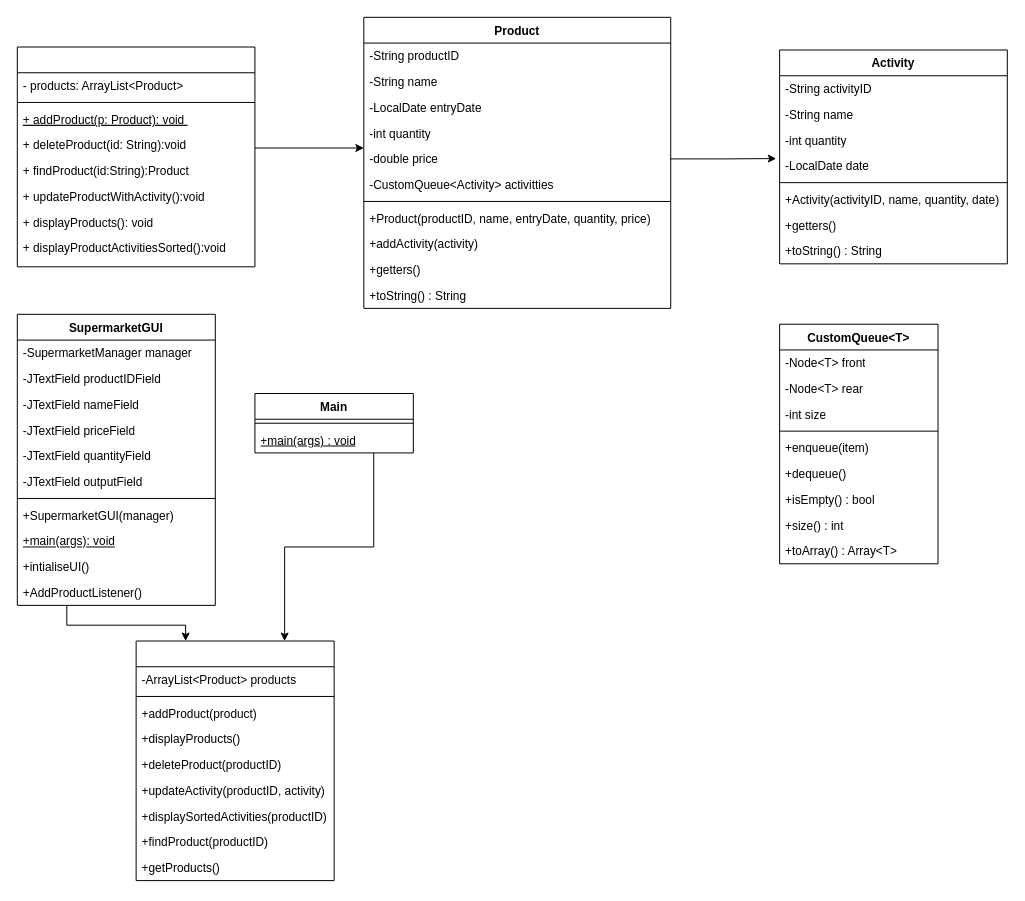
Image size: 1025x901. Some labels were removed from this diagram. Here are the shapes that lost their labels. From the top down, the box of each, then its label:
(16, 46, 255, 267): ProductManager
(135, 640, 334, 881): SupermarketManager
